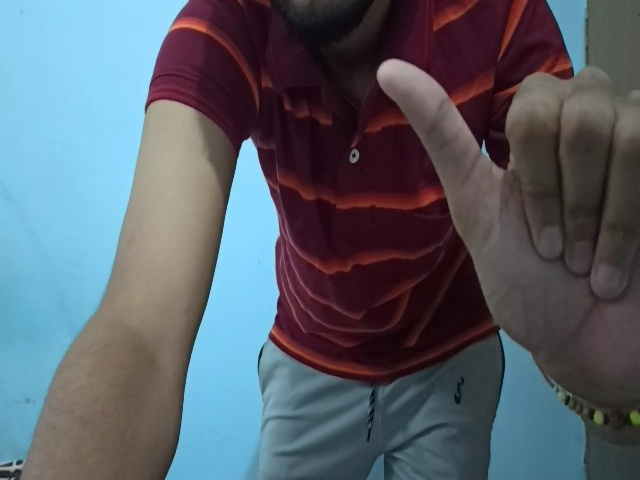A: (376, 59, 640, 409)
